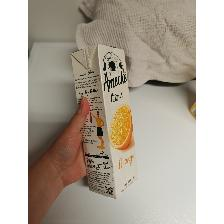Saft: (70, 43, 140, 200)
